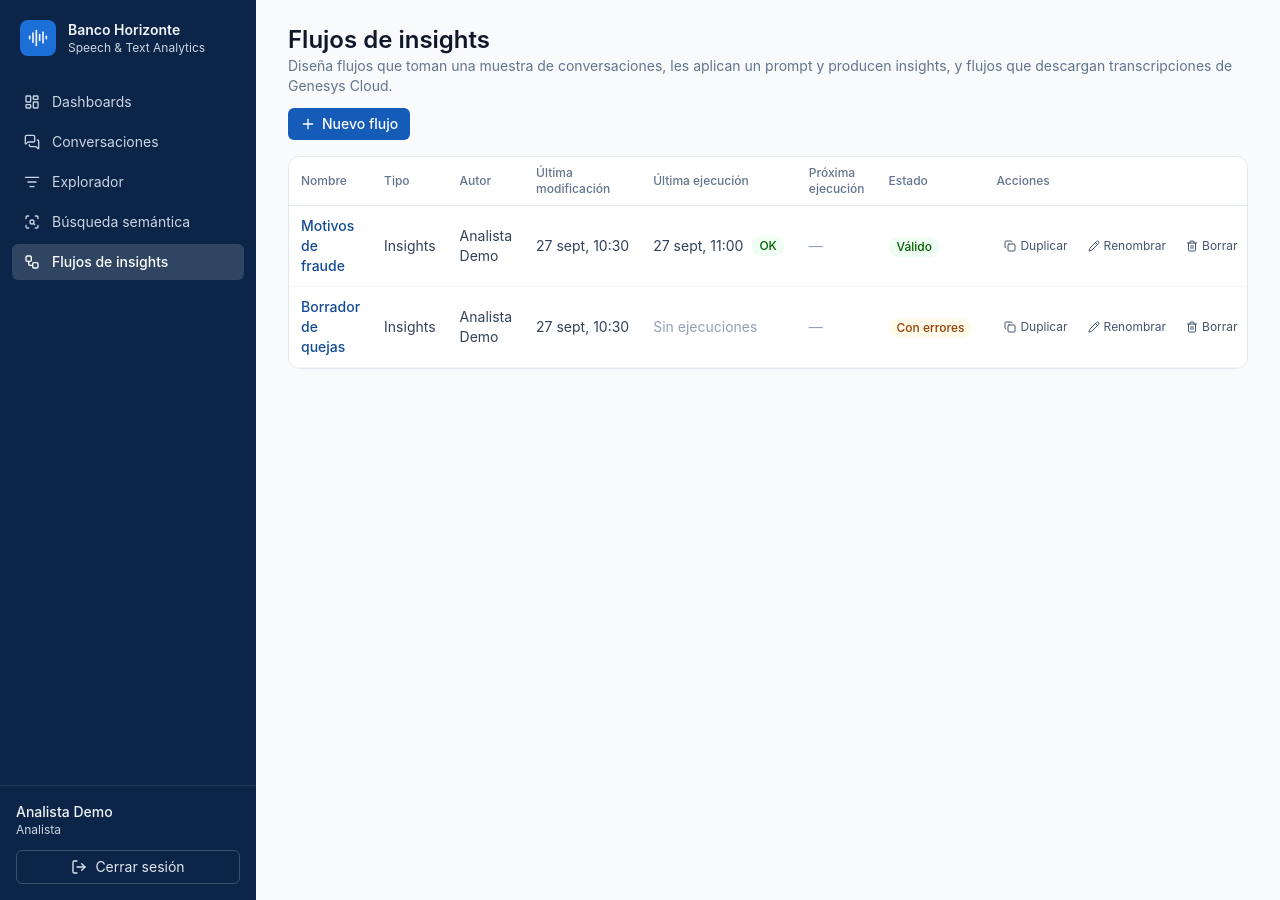
Test: listado de flujos › renombra un flujo en la propia fila
This screenshot has width=1280, height=900.
Expected: the row "Motivos de fraude" is shown, [289, 206, 1248, 286]
Click the button "Renombrar" in the row of "27 sept, 11:00". click: (1127, 246)
box: [1080, 234, 1174, 258]
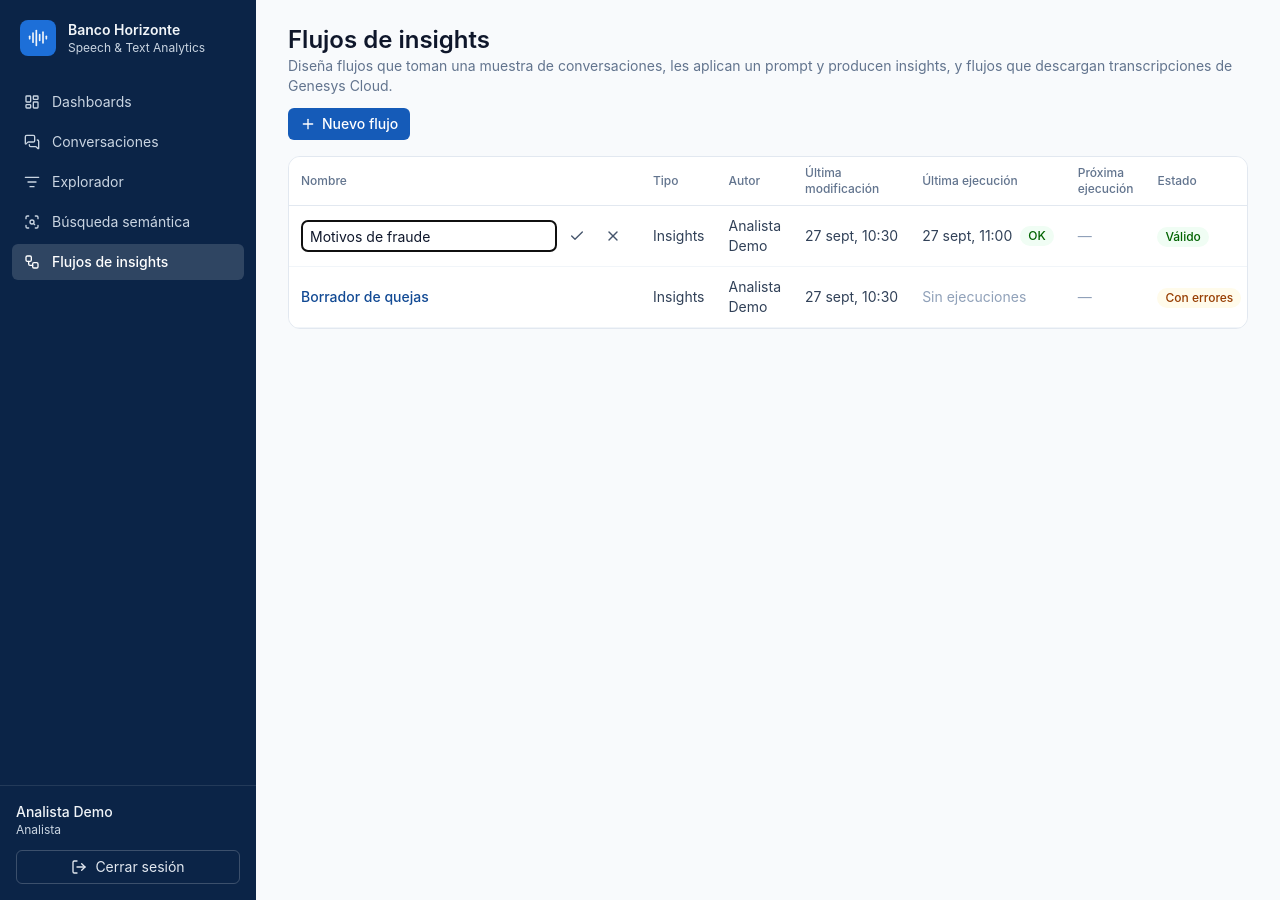
Replace the text in the field named "Nuevo nombre" with "Fraude en compras online". click: (429, 236)
box: [301, 220, 557, 252]
Then press Enter
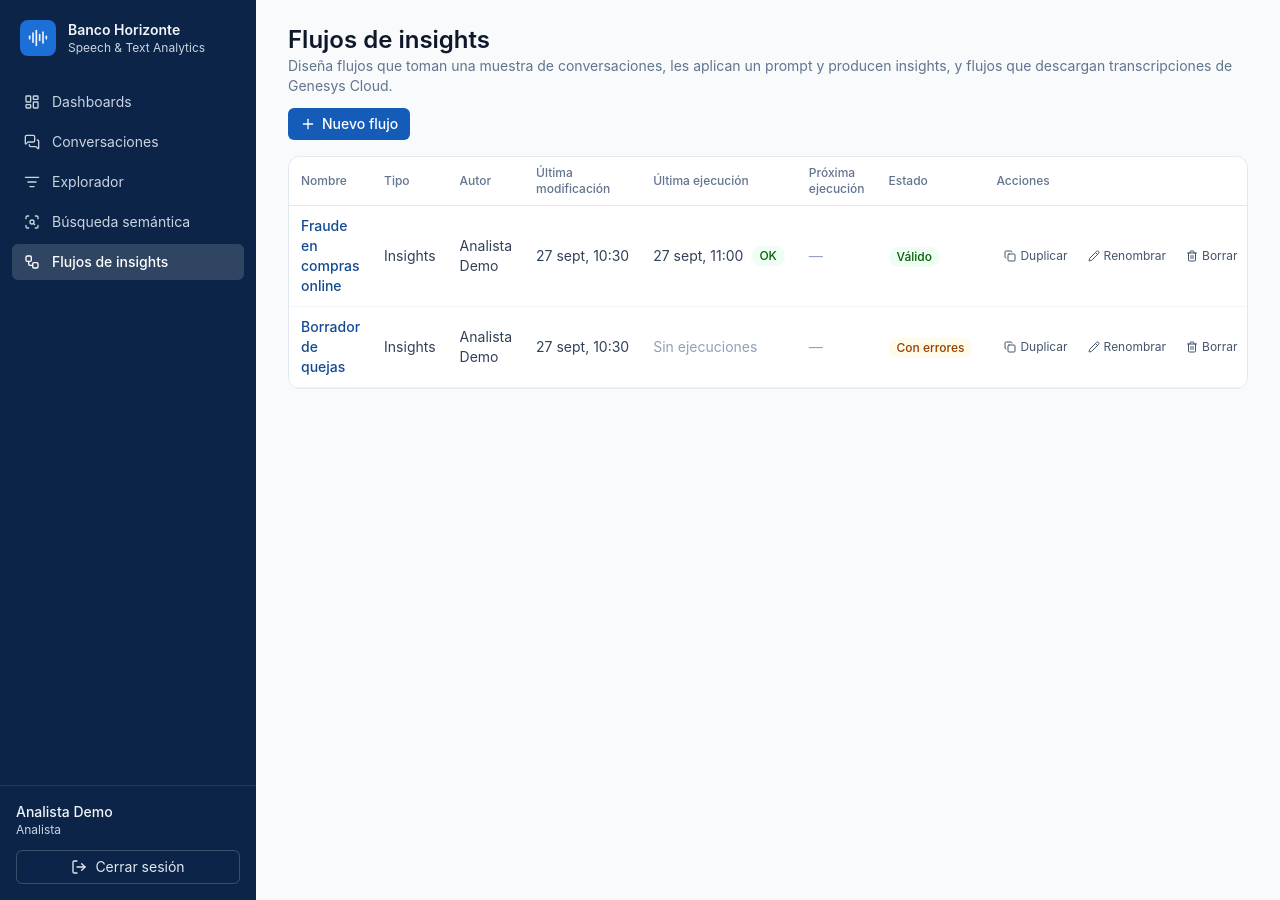
Expected: the link "Fraude en compras online" is shown, [301, 217, 360, 294]
